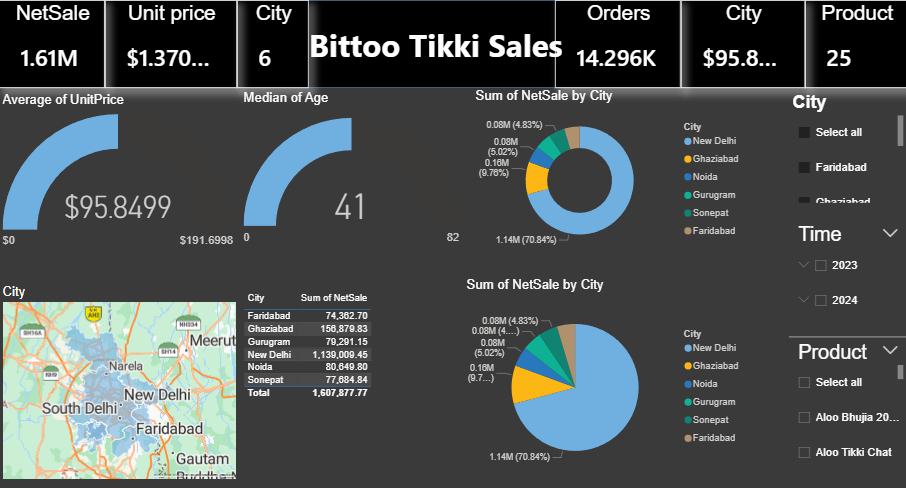

This screenshot's page, from the dashboard's own definition file:
{"tool":"powerbi","page":{"name":"Page 2","canvas":[1280,720],"ordinal":1},"visuals":[{"type":"azureMap","fields":{"Category":["Stores.City"]},"box":[0,400,339.4,280.3],"z":0},{"type":"tableEx","fields":{"Values":["Stores.City","Sum(Sales.NetSale)"]},"box":[339.4,405.6,314.1,274.6],"z":1000},{"type":"donutChart","fields":{"Category":["Stores.City"],"Y":["Sum(Sales.NetSale)"]},"box":[666.2,123.9,390.1,239.4],"z":2000},{"type":"shape","box":[0,0,1280.3,123.9],"z":3000},{"type":"gauge","fields":{"Y":["Avg(Sales.UnitPrice)"]},"box":[0,129.6,335.2,231],"z":4000},{"type":"gauge","fields":{"Y":["Median(Customers.Age)"]},"box":[339.4,126.8,314.1,236.6],"z":5000},{"type":"cardVisual","title":"NetSale","fields":{"Data":["Sum(Sales.NetSale)"]},"box":[0,0,149.3,123.9],"z":6000},{"type":"cardVisual","title":"Unit price","fields":{"Data":["Sum(Sales.UnitPrice)"]},"box":[149.3,0,185.9,123.9],"z":7000},{"type":"cardVisual","title":"City","fields":{"Data":["Count(Stores.City)"]},"box":[335.2,0,101.4,123.9],"z":8000},{"type":"cardVisual","title":"Orders","fields":{"Data":["CountNonNull(Sales.TransactionID)"]},"box":[783.1,0,177.5,123.9],"z":9000},{"type":"cardVisual","title":"City","fields":{"Data":["Avg(Sales.UnitPrice)"]},"box":[960.6,0,174.6,123.9],"z":10000},{"type":"cardVisual","title":"Product","fields":{"Data":["CountNonNull(Products.ProductName)"]},"box":[1134.9,0,145.1,123.9],"z":11000},{"type":"slicer","title":"City","fields":{"Values":["Stores.City"]},"box":[1112.7,129.6,166.2,160.6],"z":12000},{"type":"slicer","fields":{"Values":["Dates.Year","Dates.Quarter","Dates.MonthName"]},"box":[1112.7,309.9,166.2,159.2],"z":13000},{"type":"slicer","fields":{"Values":["Products.ProductName"]},"box":[1112.7,469,166.2,211.3],"z":14000},{"type":"pieChart","fields":{"Category":["Stores.City"],"Y":["Sum(Sales.NetSale)"]},"box":[653.5,390.1,402.8,290.1],"z":14001}]}

Visuals, with their boxes on the page's 1280x720 design canvas (x1, y1, x2, y2). These are canvas units, not pixel positions in the 906x488 screenshot, which may show the page scaled, cropped or inside an application window:
azureMap - Stores.City: pyautogui.locateOnScreen(0, 400, 339, 680)
tableEx - Stores.City x Sum(Sales.NetSale): pyautogui.locateOnScreen(339, 406, 654, 680)
donutChart - Stores.City x Sum(Sales.NetSale): pyautogui.locateOnScreen(666, 124, 1056, 363)
shape: pyautogui.locateOnScreen(0, 0, 1280, 124)
gauge - Avg(Sales.UnitPrice): pyautogui.locateOnScreen(0, 130, 335, 361)
gauge - Median(Customers.Age): pyautogui.locateOnScreen(339, 127, 654, 363)
"NetSale" cardVisual: pyautogui.locateOnScreen(0, 0, 149, 124)
"Unit price" cardVisual: pyautogui.locateOnScreen(149, 0, 335, 124)
"City" cardVisual: pyautogui.locateOnScreen(335, 0, 437, 124)
"Orders" cardVisual: pyautogui.locateOnScreen(783, 0, 961, 124)
"City" cardVisual: pyautogui.locateOnScreen(961, 0, 1135, 124)
"Product" cardVisual: pyautogui.locateOnScreen(1135, 0, 1280, 124)
"City" slicer: pyautogui.locateOnScreen(1113, 130, 1279, 290)
slicer - Dates.Year x Dates.Quarter: pyautogui.locateOnScreen(1113, 310, 1279, 469)
slicer - Products.ProductName: pyautogui.locateOnScreen(1113, 469, 1279, 680)
pieChart - Stores.City x Sum(Sales.NetSale): pyautogui.locateOnScreen(654, 390, 1056, 680)
